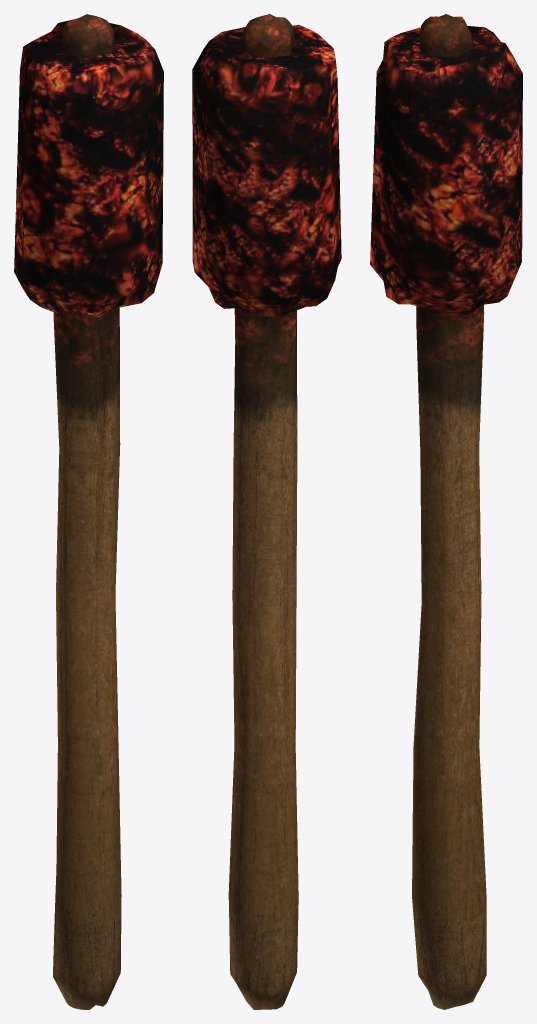
File: Torch.fbx
The picture shows the model from 3 angles, left to right: view 1: azimuth 30°, elevation 25°; view 2: azimuth 150°, elevation 25°; view 3: azimuth 270°, elevation 25°; orthographic projection.
Visible parts, largest first — view 1: Cylinder.001; view 2: Cylinder.001; view 3: Cylinder.001.
Boxes of the visible parts, left/top/right/bottom form: Cylinder.001: left=14, top=14, right=163, bottom=1009; Cylinder.001: left=192, top=14, right=341, bottom=1009; Cylinder.001: left=370, top=14, right=522, bottom=1009.
Size of the model in its own units: 75.67 by 542 by 76.51.
